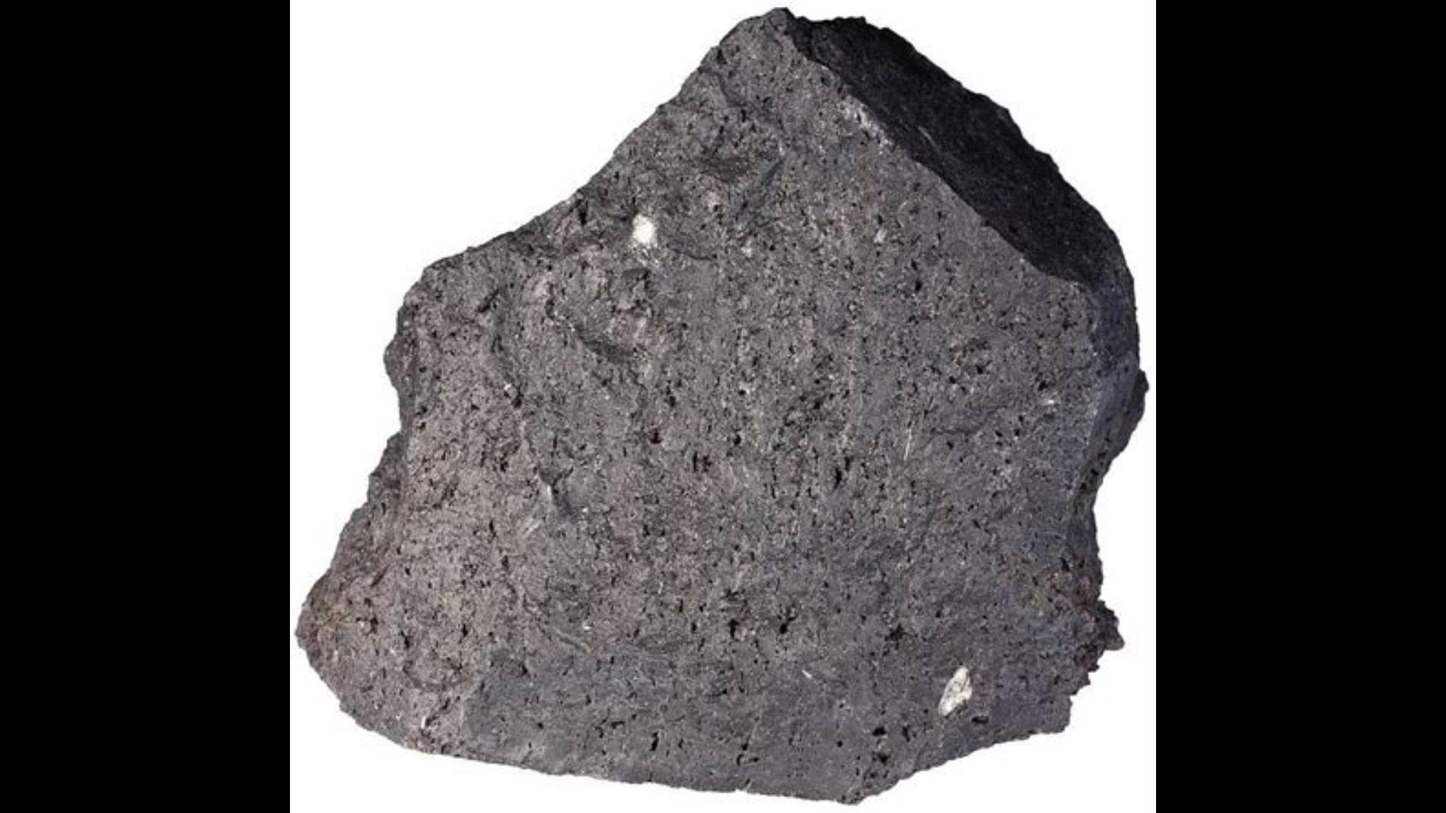rock: (299, 11, 1144, 800)
